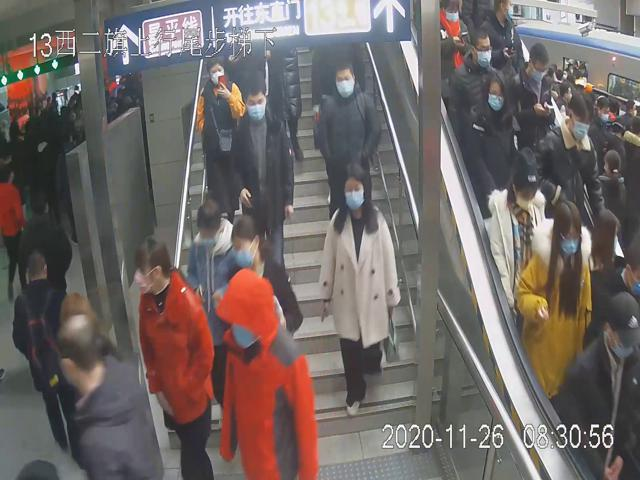person: (317, 160, 404, 418), (215, 268, 319, 480), (134, 234, 214, 480), (515, 197, 594, 395), (229, 70, 296, 267), (185, 197, 237, 406), (314, 56, 382, 215), (226, 215, 306, 341), (193, 54, 245, 228), (463, 73, 522, 212), (447, 23, 505, 145)
